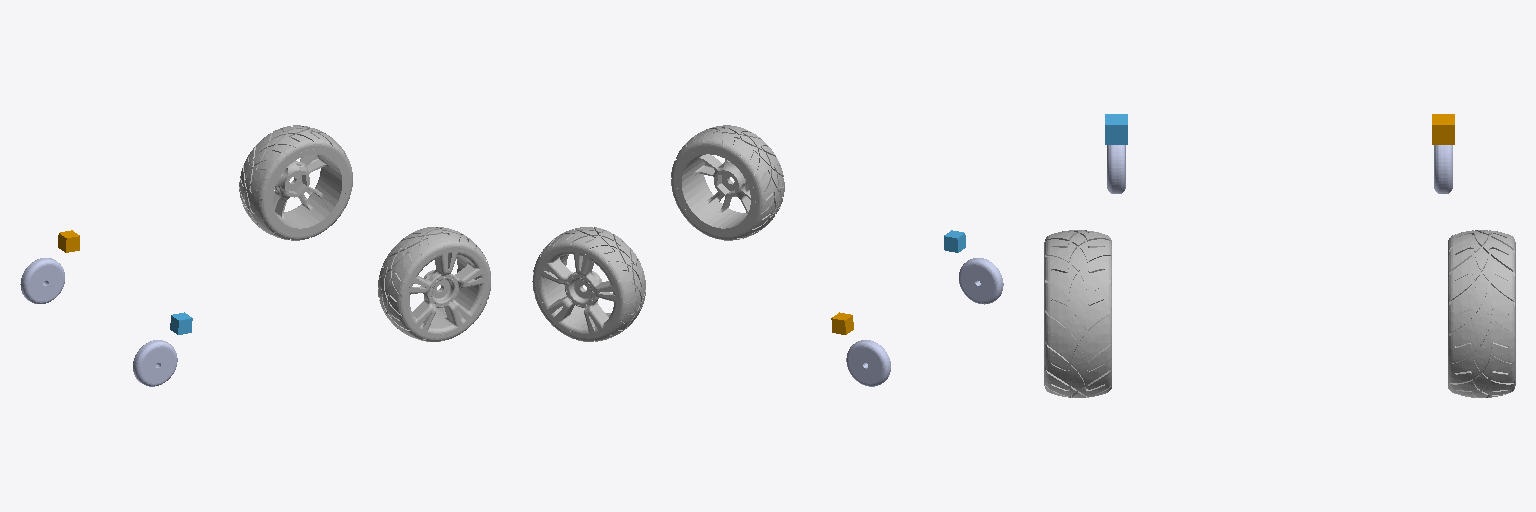
robot.urdf — caddybot:
<?xml version="1.0" ?>
<!-- =================================================================================== -->
<!-- |    This document was autogenerated by xacro from caddyboturdf.xacro             | -->
<!-- |    EDITING THIS FILE BY HAND IS NOT RECOMMENDED                                 | -->
<!-- =================================================================================== -->
<robot name="caddybot">
  <!-- Init colour -->
  <material name="black">
    <color rgba="0.0 0.0 0.0 1.0"/>
  </material>
  <material name="dark">
    <color rgba="0.3 0.3 0.3 1.0"/>
  </material>
  <material name="light_black">
    <color rgba="0.4 0.4 0.4 1.0"/>
  </material>
  <material name="blue">
    <color rgba="0.0 0.0 0.8 1.0"/>
  </material>
  <material name="green">
    <color rgba="0.0 0.8 0.0 1.0"/>
  </material>
  <material name="grey">
    <color rgba="0.5 0.5 0.5 1.0"/>
  </material>
  <material name="orange">
    <color rgba="1.0 0.4235294117647059 0.0392156862745098 1.0"/>
  </material>
  <material name="brown">
    <color rgba="0.8705882352941177 0.8117647058823529 0.7647058823529411 1.0"/>
  </material>
  <material name="red">
    <color rgba="0.8 0.0 0.0 1.0"/>
  </material>
  <material name="white">
    <color rgba="1.0 1.0 1.0 1.0"/>
  </material>
  <gazebo reference="base_link">
    <material>Gazebo/Grey</material>
  </gazebo>
  <gazebo reference="LeftF_Link">
    <mu1>1</mu1>
    <mu2>0.7</mu2>
    <kp>500000.0</kp>
    <kd>10.0</kd>
    <minDepth>0.001</minDepth>
    <maxVel>0.22</maxVel>
    <fdir1>1 0 0</fdir1>
    <material>Gazebo/Blue</material>
  </gazebo>
  <gazebo reference="RightF_Link">
    <mu1>1</mu1>
    <mu2>0.7</mu2>
    <kp>500000.0</kp>
    <kd>10.0</kd>
    <minDepth>0.001</minDepth>
    <maxVel>0.22</maxVel>
    <fdir1>1 0 0</fdir1>
    <material>Gazebo/Blue</material>
  </gazebo>
  <gazebo reference="LB_Link">
    <mu1>0.8</mu1>
    <mu2>0.5</mu2>
    <kp>500000.0</kp>
    <kd>10.0</kd>
    <minDepth>0.001</minDepth>
    <maxVel>0.22</maxVel>
    <fdir1>1 0 0</fdir1>
    <material>Gazebo/Red</material>
  </gazebo>
  <gazebo reference="casterL_Link">
    <mu1>0.8</mu1>
    <mu2>0.5</mu2>
    <material>Gazebo/Red</material>
  </gazebo>
  <gazebo reference="casterR_Link">
    <mu1>0.8</mu1>
    <mu2>0.5</mu2>
    <material>Gazebo/Red</material>
  </gazebo>
  <gazebo reference="RB_Link">
    <mu1>0.8</mu1>
    <mu2>0.5</mu2>
    <kp>500000.0</kp>
    <kd>10.0</kd>
    <minDepth>0.001</minDepth>
    <maxVel>0.22</maxVel>
    <fdir1>1 0 0</fdir1>
    <material>Gazebo/Red</material>
  </gazebo>
  <gazebo>
    <plugin filename="libgazebo_ros_diff_drive.so" name="caddy_controller">
      <commandTopic>cmd_vel</commandTopic>
      <odometryTopic>odom</odometryTopic>
      <odometryFrame>odom</odometryFrame>
      <odometrySource>world</odometrySource>
      <publishOdomTF>true</publishOdomTF>
      <robotBaseFrame>base_footprint</robotBaseFrame>
      <publishWheelTF>false</publishWheelTF>
      <publishTf>true</publishTf>
      <publishWheelJointState>true</publishWheelJointState>
      <legacyMode>false</legacyMode>
      <updateRate>50</updateRate>
      <leftJoint>LeftFlink</leftJoint>
      <rightJoint>RightFlink</rightJoint>
      <wheelSeparation>0.94301</wheelSeparation>
      <wheelDiameter>0.310</wheelDiameter>
      <wheelAcceleration>10.0</wheelAcceleration>
      <wheelTorque>20</wheelTorque>
      <rosDebugLevel>debug</rosDebugLevel>
    </plugin>
  </gazebo>
  <gazebo reference="imu_link">
    <sensor name="imu" type="imu">
      <always_on>true</always_on>
      <visualize>false</visualize>
    </sensor>
  </gazebo>
  <link name="unilidar_lidar"/>
  
  <joint name="unilidar_joint" type="fixed">
    <parent link="base_link"/>
    <child link="unilidar_lidar"/>
    <origin xyz="-0.36 0.0 0.15" rpy="0 1.50970980298 3.141592"/>
  </joint>  

  <gazebo reference="cam_link">
    <sensor type="ray" name="lds_lfcd_sensor">
      <pose>0 0 0 0 0 0</pose>
      <visualize>true</visualize>
      <update_rate>10</update_rate>
      <ray>
        <scan>
          <horizontal>
            <samples>40</samples>
            <resolution>1</resolution>
            <min_angle>-1.5708</min_angle>
            <max_angle>1.5708</max_angle>
          </horizontal>
          <vertical>
            <samples>40</samples>
            <resolution>1</resolution>
            <min_angle>0</min_angle>
            <max_angle>-1.5708</max_angle>
          </vertical>
        </scan>
        <range>
          <min>0.50</min>
          <max>30</max>
          <resolution>0.015</resolution>
        </range>
        <noise>
          <type>gaussian</type>
          <mean>0.0</mean>
          <stddev>0.01</stddev>
        </noise>
      </ray>
      <plugin name="gazebo_ros_lds_lfcd_controller" filename="libgazebo_ros_laser.so">
        <topicName>lidar_scan</topicName>
        <frameName>base_footprint</frameName>
      </plugin>
    </sensor>
  </gazebo>

  <gazebo>
    <plugin filename="libgazebo_ros_imu.so" name="imu_plugin">
      <alwaysOn>true</alwaysOn>
      <bodyName>imu_link</bodyName>
      <frameName>imu_link</frameName>
      <topicName>imu</topicName>
      <serviceName>imu_service</serviceName>
      <gaussianNoise>0.0</gaussianNoise>
      <updateRate>50</updateRate>
      <imu>
        <noise>
          <type>gaussian</type>
          <rate>
            <mean>0.0</mean>
            <stddev>2e-4</stddev>
            <bias_mean>0.0000075</bias_mean>
            <bias_stddev>0.0000008</bias_stddev>
          </rate>
          <accel>
            <mean>0.0</mean>
            <stddev>1.7e-2</stddev>
            <bias_mean>0.1</bias_mean>
            <bias_stddev>0.001</bias_stddev>
          </accel>
        </noise>
      </imu>
    </plugin>
  </gazebo>
  <link name="base_footprint"/>
  <joint name="base_joint" type="fixed">
    <parent link="base_footprint"/>
    <child link="base_link"/>
    <origin rpy="0 -0.06 3.14159265359" xyz="0.0 0.0 0.30"/>
  </joint>
  <link name="imu_link"/>
  <joint name="imu_joint" type="fixed">
    <parent link="base_link"/>
    <child link="imu_link"/>
    <origin rpy="0 0 3.141592" xyz="-0.1 0.0 0"/>
  </joint>  
  <link name="cam_link"/>
  <joint name="cam_joint" type="fixed">
    <parent link="base_link"/>
    <child link="cam_link"/>
    <origin rpy="0 0 3.141592" xyz="-0.3 0.0 0.18"/>
  </joint>
  <gazebo reference="cam_link">
    <self_collide>0</self_collide>
    <enable_wind>0</enable_wind>
    <kinematic>0</kinematic>
    <gravity>1</gravity>
    <!--<mu>1</mu>-->
    <mu2>1</mu2>
    <fdir1>0 0 0</fdir1>
    <!--<slip1>0</slip1>
      <slip2>0</slip2>-->
    <kp>1e+13</kp>
    <kd>1</kd>
    <!--<max_vel>0.01</max_vel>
      <min_depth>0</min_depth>-->
    <sensor name="cameracolor" type="camera">
      <camera name="camera">
        <horizontal_fov>1.2112585008840648</horizontal_fov>
        <image>
          <width>640</width>
          <height>480</height>
          <format>RGB_INT8</format>
        </image>
        <clip>
          <near>0.1</near>
          <far>100</far>
        </clip>
        <noise>
          <type>gaussian</type>
          <mean>0.0</mean>
          <stddev>0.007</stddev>
        </noise>
      </camera>
      <always_on>1</always_on>
      <update_rate>30</update_rate>
      <visualize>1</visualize>
    </sensor>
    <sensor name="cameraired1" type="camera">
      <camera name="camera">
        <horizontal_fov>1.4870205226991688</horizontal_fov>
        <image>
          <width>1280</width>
          <height>720</height>
          <format>L_INT8</format>
        </image>
        <clip>
          <near>0.1</near>
          <far>100</far>
        </clip>
        <noise>
          <type>gaussian</type>
          <mean>0.0</mean>
          <stddev>0.05</stddev>
        </noise>
      </camera>
      <always_on>1</always_on>
      <update_rate>90</update_rate>
      <visualize>0</visualize>
    </sensor>
    <sensor name="cameraired2" type="camera">
      <camera name="camera">
        <horizontal_fov>1.4870205226991688</horizontal_fov>
        <image>
          <width>1280</width>
          <height>720</height>
          <format>L_INT8</format>
        </image>
        <clip>
          <near>0.1</near>
          <far>100</far>
        </clip>
        <noise>
          <type>gaussian</type>
          <mean>0.0</mean>
          <stddev>0.05</stddev>
        </noise>
      </camera>
      <always_on>1</always_on>
      <update_rate>90</update_rate>
      <visualize>0</visualize>
    </sensor>
    <sensor name="cameradepth" type="depth">
      <camera name="camera">
        <horizontal_fov>1.4870205226991688</horizontal_fov>
        <image>
          <width>640</width>
          <height>480</height>
        </image>
        <clip>
          <near>0.1</near>
          <far>100</far>
        </clip>
        <noise>
          <type>gaussian</type>
          <mean>0.0</mean>
          <stddev>0.100</stddev>
        </noise>
      </camera>
      <always_on>1</always_on>
      <update_rate>90</update_rate>
      <visualize>0</visualize>
    </sensor>
  </gazebo>
  <gazebo>
    <plugin filename="librealsense_gazebo_plugin.so" name="camera">
      <prefix>camera</prefix>
      <depthUpdateRate>30.0</depthUpdateRate>
      <colorUpdateRate>30.0</colorUpdateRate>
      <infraredUpdateRate>30.0</infraredUpdateRate>
      <depthTopicName>depth/image_raw</depthTopicName>
      <depthCameraInfoTopicName>depth/camera_info</depthCameraInfoTopicName>
      <colorTopicName>color/image_raw</colorTopicName>
      <colorCameraInfoTopicName>color/camera_info</colorCameraInfoTopicName>
      <infrared1TopicName>infra1/image_raw</infrared1TopicName>
      <infrared1CameraInfoTopicName>infra1/camera_info</infrared1CameraInfoTopicName>
      <infrared2TopicName>infra2/image_raw</infrared2TopicName>
      <infrared2CameraInfoTopicName>infra2/camera_info</infrared2CameraInfoTopicName>
      <colorOpticalframeName>camera_color_optical_frame</colorOpticalframeName>
      <depthOpticalframeName>camera_depth_optical_frame</depthOpticalframeName>
      <infrared1OpticalframeName>camera_infrared1_optical_frame</infrared1OpticalframeName>
      <infrared2OpticalframeName>camera_infrared2_optical_frame</infrared2OpticalframeName>
      <rangeMinDepth>0.2</rangeMinDepth>
      <rangeMaxDepth>10.0</rangeMaxDepth>
      <pointCloud>True</pointCloud>
      <pointCloudTopicName>depth/color/points</pointCloudTopicName>
      <pointCloudCutoff>0.25</pointCloudCutoff>
      <pointCloudCutoffMax>9.0</pointCloudCutoffMax>
    </plugin>
  </gazebo>
  <link name="base_link">
    <inertial>
      <origin rpy="0 0 0" xyz="0.13001 0.0030047 0.020182"/>
      <mass value="23.189"/>
      <inertia ixx="0.1628" ixy="3.4324E-05" ixz="-0.0063706" iyy="0.21523" iyz="-5.4253E-05" izz="0.22576"/>
    </inertial>
    <visual>
      <origin rpy="0 0 0" xyz="0 0 0"/>
      <geometry>
        <mesh filename="package://caddybot_urdf/meshes/base_link.STL"/>
      </geometry>
      <material name="">
        <color rgba="0.792156862745098 0.819607843137255 0.933333333333333 1"/>
      </material>
    </visual>
    <collision>
      <origin rpy="0 0 0" xyz="0 0 0"/>
      <geometry>
        <mesh filename="package://caddybot_urdf/meshes/base_link.STL"/>
      </geometry>
    </collision>
  </link>
  <link name="LeftF_Link">
    <inertial>
      <origin rpy="0 0 0" xyz="3.5645E-09 2.0638E-08 0.02868"/>
      <mass value="3.1488"/>
      <inertia ixx="0.036853" ixy="-7.098E-10" ixz="-9.4404E-10" iyy="0.036853" iyz="5.3754E-10" izz="0.059899"/>
    </inertial>
    <visual>
      <origin rpy="0 0 0" xyz="0 0 0"/>
      <geometry>
        <mesh filename="package://caddybot_urdf/meshes/LeftF_Link.STL"/>
      </geometry>
      <material name="">
        <color rgba="0.75294 0.75294 0.75294 1"/>
      </material>
    </visual>
    <collision>
      <origin rpy="0 0 0" xyz="0 0 0"/>
      <geometry>
        <mesh filename="package://caddybot_urdf/meshes/LeftF_Link.STL"/>
      </geometry>
    </collision>
  </link>
  <joint name="LeftFlink" type="continuous">
    <origin rpy="-1.5708 0 0" xyz="-0.1625 -0.47151 -0.15967"/>
    <parent link="base_link"/>
    <child link="LeftF_Link"/>
    <axis xyz="0 0 -1"/>
  </joint>
  <link name="RightF_Link">
    <inertial>
      <origin rpy="0 0 0" xyz="5.47624412483572E-09 -4.71908490409789E-09 -0.0286797314543985"/>
      <mass value="3.1488296265046"/>
      <inertia ixx="0.036853305692685" ixy="5.45140823185881E-10" ixz="-1.69602894516381E-09" iyy="0.0368533056763454" iyz="-9.32672289049548E-10" izz="0.0598990431182657"/>
    </inertial>
    <visual>
      <origin rpy="0 0 0" xyz="0 0 0"/>
      <geometry>
        <mesh filename="package://caddybot_urdf/meshes/RightF_Link.STL"/>
      </geometry>
      <material name="">
        <color rgba="0.752941176470588 0.752941176470588 0.752941176470588 1"/>
      </material>
    </visual>
    <collision>
      <origin rpy="0 0 0" xyz="0 0 0"/>
      <geometry>
        <mesh filename="package://caddybot_urdf/meshes/RightF_Link.STL"/>
      </geometry>
    </collision>
  </link>
  <joint name="RightFlink" type="continuous">
    <origin rpy="-1.5708 0 0" xyz="-0.1625 0.47151 -0.15967"/>
    <parent link="base_link"/>
    <child link="RightF_Link"/>
    <axis xyz="0 0 -1"/>
  </joint>
  <link name="LB_Link">
    <inertial>
      <origin rpy="0 0 0" xyz="0 -1.38777878078145E-17 0"/>
      <mass value="0.672889345058735"/>
      <inertia ixx="0.00102415281934837" ixy="-9.64236297623981E-50" ixz="9.32002799941477E-19" iyy="0.00102415281934837" iyz="-3.93279156307764E-35" izz="0.00188210863417053"/>
    </inertial>
    <visual>
      <origin rpy="0 0 0" xyz="0 0 0"/>
      <geometry>
        <mesh filename="package://caddybot_urdf/meshes/LB_Link.STL"/>
      </geometry>
      <material name="">
        <color rgba="0.792156862745098 0.819607843137255 0.933333333333333 1"/>
      </material>
    </visual>
    <collision>
      <origin rpy="0 0 0" xyz="0 0 0"/>
      <geometry>
        <mesh filename="package://caddybot_urdf/meshes/LB_Link.STL"/>
      </geometry>
    </collision>
  </link>
  <joint name="casterLlink" type="continuous">
    <origin rpy="0 0 0" xyz="0.71 -0.35316 -0.179"/>
    <parent link="base_link"/>
    <child link="casterL_Link"/>
    <axis xyz="0 0 1"/>
  </joint>
  <link name="casterL_Link">
    <origin rpy="0 0 0" xyz="0 0 0"/>
    <inertial>
      <origin rpy="0 0 0" xyz="0 0 0"/>
      <mass value="0.31488296265046"/>
      <inertia ixx="0.036853305692685" ixy="0.45140823185881E-10" ixz="0.69602894516381E-09" iyy="0.0368533056763454" iyz="0.32672289049548E-10" izz="0.0598990431182657"/>
    </inertial>
    <visual>
      <origin rpy="0 0 0" xyz="0 0 0"/>
      <geometry>
        <box size="0.05 0.05 0.05"/>
      </geometry>
    </visual>
  </link>
  <joint name="LBlink" type="continuous">
    <origin rpy="-1.5708 0 0" xyz="0.088 0 -0.12"/>
    <parent link="casterL_Link"/>
    <child link="LB_Link"/>
    <axis xyz="0 0 -1"/>
  </joint>
  <joint name="casterRlink" type="continuous">
    <origin rpy="0 0 0" xyz="0.71 0.35316 -0.179"/>
    <parent link="base_link"/>
    <child link="casterR_Link"/>
    <axis xyz="0 0 1"/>
  </joint>
  <link name="casterR_Link">
    <origin rpy="0 0 0" xyz="0 0 0"/>
    <inertial>
      <origin rpy="0 0 0" xyz="0 0 0"/>
      <mass value="0.31488296265046"/>
      <inertia ixx="0.036853305692685" ixy="0.45140823185881E-10" ixz="0.69602894516381E-09" iyy="0.0368533056763454" iyz="0.32672289049548E-10" izz="0.0598990431182657"/>
    </inertial>
    <visual>
      <origin rpy="0 0 0" xyz="0 0 0"/>
      <geometry>
        <box size="0.05 0.05 0.05"/>
      </geometry>
    </visual>
  </link>
  <link name="RB_Link">
    <inertial>
      <origin rpy="0 0 0" xyz="0 -1.38777878078145E-17 0"/>
      <mass value="0.672889345058735"/>
      <inertia ixx="0.00102415281934837" ixy="1.70075227112675E-20" ixz="-1.96517608339373E-18" iyy="0.00102415281934837" iyz="-5.32937046757169E-21" izz="0.00188210863417053"/>
    </inertial>
    <visual>
      <origin rpy="0 0 0" xyz="0 0 0"/>
      <geometry>
        <mesh filename="package://caddybot_urdf/meshes/RB_Link.STL"/>
      </geometry>
      <material name="">
        <color rgba="0.792156862745098 0.819607843137255 0.933333333333333 1"/>
      </material>
    </visual>
    <collision>
      <origin rpy="0 0 0" xyz="0 0 0"/>
      <geometry>
        <mesh filename="package://caddybot_urdf/meshes/RB_Link.STL"/>
      </geometry>
    </collision>
  </link>
  <joint name="RBlink" type="continuous">
    <origin rpy="-1.5708 0 0" xyz="0.088 0 -0.12"/>
    <parent link="casterR_Link"/>
    <child link="RB_Link"/>
    <axis xyz="0 0 -1"/>
  </joint>
</robot>

--- What the picture shows (computed from the rendered views, not written in the file) ---
3 views of the same robot in one strip: view 1: azimuth 30°, elevation 25°; view 2: azimuth 150°, elevation 25°; view 3: azimuth 270°, elevation 25° (orthographic).
Model caddybot with 11 links and 10 joints (6 continuous, 4 fixed), rooted at base_footprint, posed every joint at zero.
Visible links, largest first — view 1: LeftF_Link, RightF_Link, RB_Link, LB_Link; view 2: RightF_Link, LeftF_Link, LB_Link, RB_Link; view 3: RightF_Link, LeftF_Link, LB_Link, RB_Link, casterL_Link, casterR_Link.
Boxes of the visible links, bbox=[...] form: LeftF_Link: bbox=[239, 125, 352, 240]; RightF_Link: bbox=[378, 227, 490, 341]; RB_Link: bbox=[133, 340, 177, 386]; LB_Link: bbox=[20, 258, 64, 303]; RightF_Link: bbox=[671, 125, 784, 240]; LeftF_Link: bbox=[532, 227, 645, 341]; LB_Link: bbox=[846, 340, 890, 386]; RB_Link: bbox=[959, 258, 1003, 304]; RightF_Link: bbox=[1044, 230, 1111, 397]; LeftF_Link: bbox=[1448, 230, 1515, 397]; LB_Link: bbox=[1434, 145, 1452, 193]; RB_Link: bbox=[1107, 145, 1125, 193]; casterL_Link: bbox=[1432, 114, 1454, 144]; casterR_Link: bbox=[1105, 114, 1127, 144].
Size in the robot's own frame: 1.22 by 1.02 by 0.3632 metres.
Meshes: 5 distinct files referenced, 4 mesh visuals loaded (4 binary STL); not drawn: 1 (reference not matched to a file when rendering).
